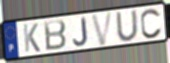B: (43, 19, 68, 53)
C: (139, 8, 163, 40)
J: (72, 16, 89, 48)
K: (22, 22, 42, 54)
U: (114, 9, 140, 43)
V: (90, 10, 115, 47)
